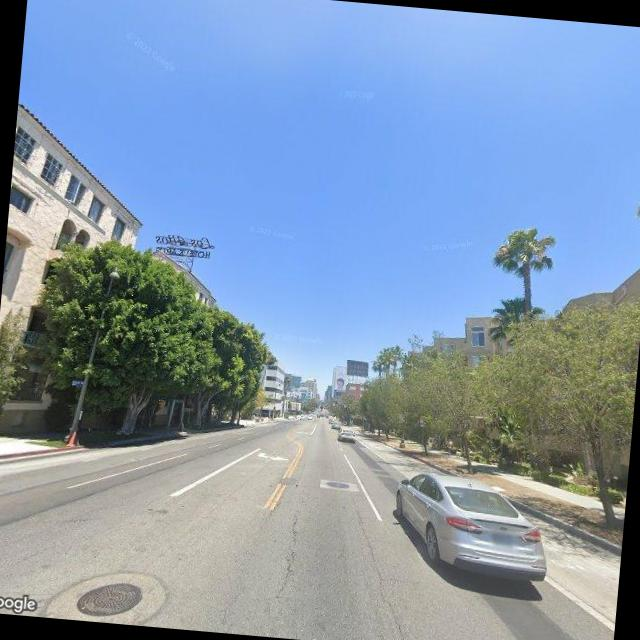pothole: (339, 498, 421, 640), (276, 502, 305, 599)
